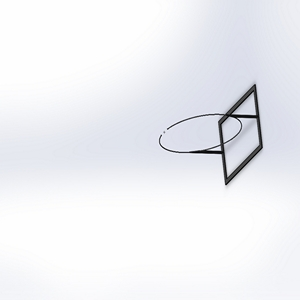circle: (155, 79, 265, 188)
